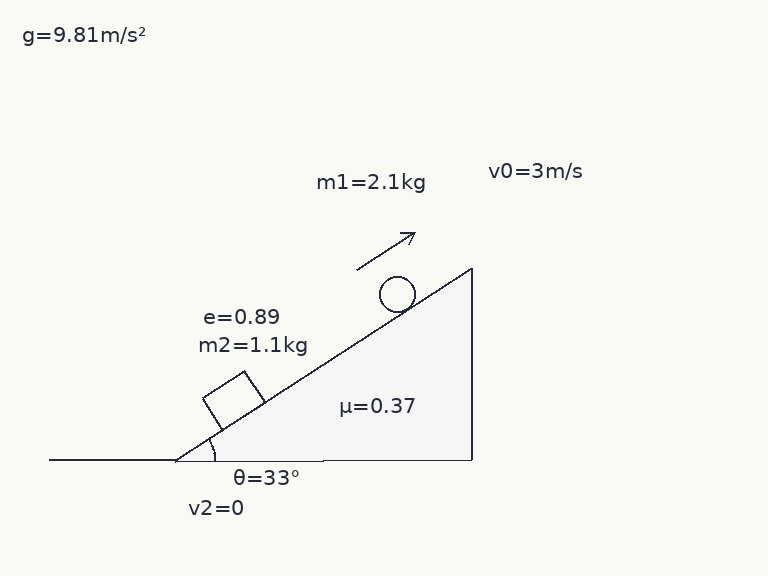ball: (377, 274, 417, 314)
block: (199, 368, 267, 432)
ramp: (173, 266, 473, 462)
